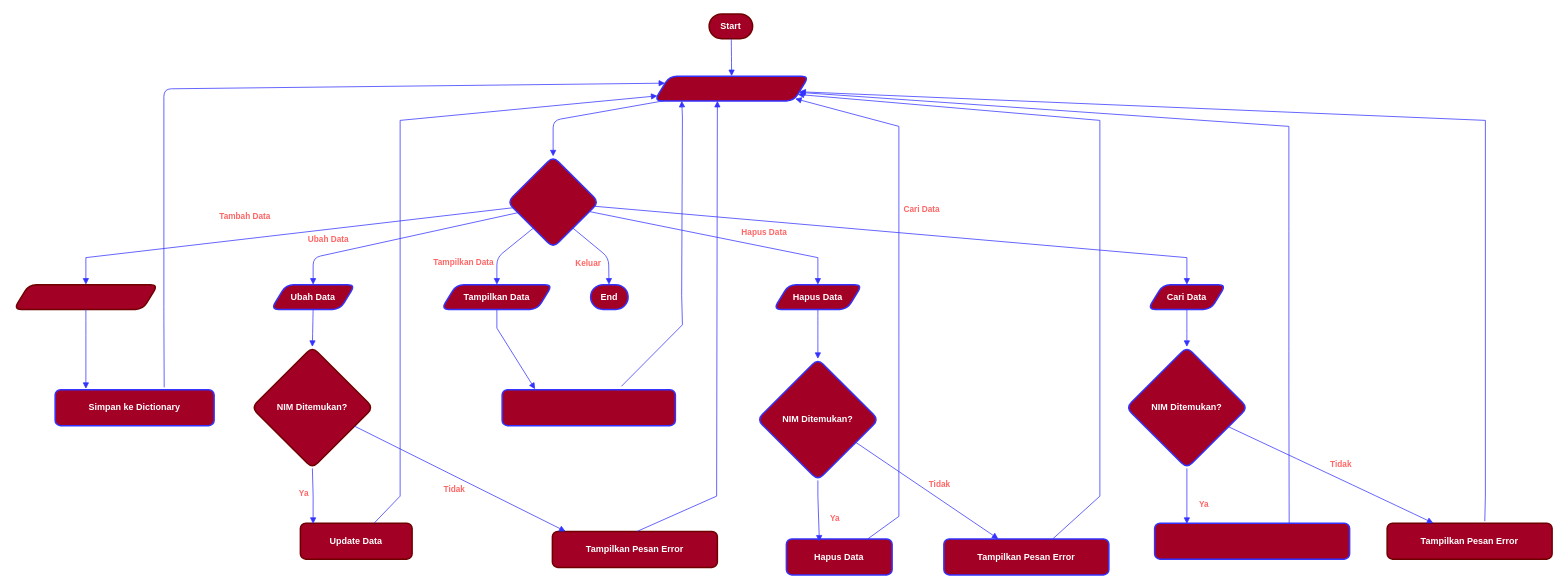
The diagram is 1565 pixels wide and 588 high, and some of its shapes have lost their labels. The centre of each missing label's shape, as x and y in pixels:
"Cetak Daftar Mahasiswa" goes at point (588, 407).
"Input Data Mahasiswa" goes at point (85, 297).
"Pilih Menu" goes at point (552, 201).
"Tampilkan Detail Mahasiswa" goes at point (1252, 541).
"Tampilkan Menu Pilihan" goes at point (731, 88).
